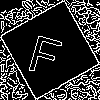F: (25, 25, 67, 78)
